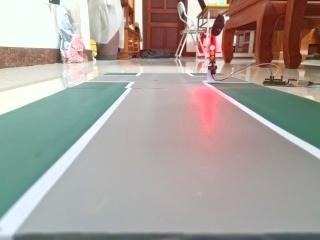red: (205, 43, 221, 69)
